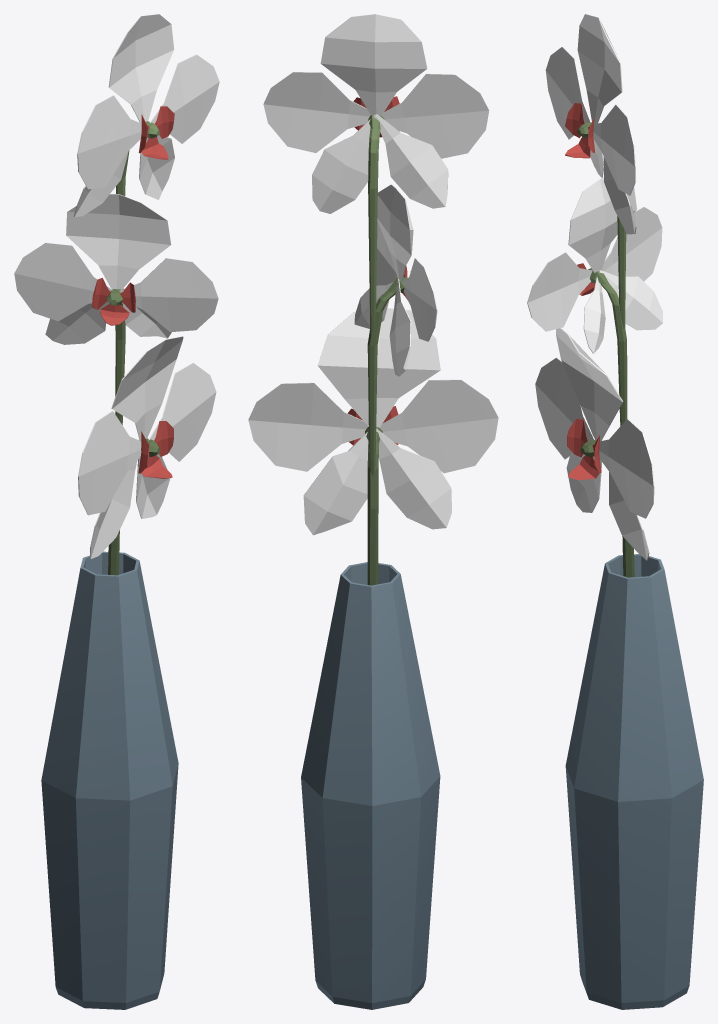
File: Vase_03.fbx
3 renders of one model, left to right at view 1: azimuth 30°, elevation 25°; view 2: azimuth 150°, elevation 25°; view 3: azimuth 270°, elevation 25°, orthographic. The views are drawn at different scales.
Parts seen in each view (by area): view 1: Vase_03; view 2: Vase_03; view 3: Vase_03.
Boxes of the visible parts, x1,y1,x2,y2 form: Vase_03: (14, 14, 219, 1009); Vase_03: (248, 14, 498, 1009); Vase_03: (527, 14, 703, 1009).
Size of the model in its own units: 13.33 by 63.15 by 10.37.
